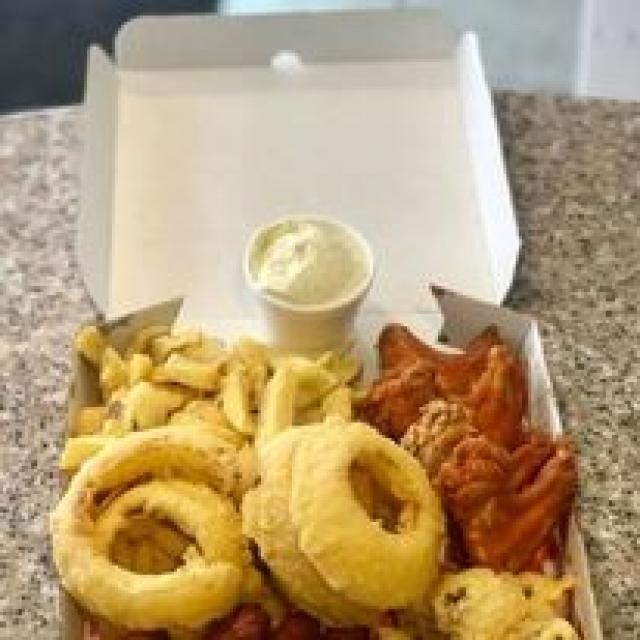Chicken Wings: (354, 320, 581, 559)
French Fries: (65, 308, 367, 435)
Onion Rings: (56, 422, 444, 630)
